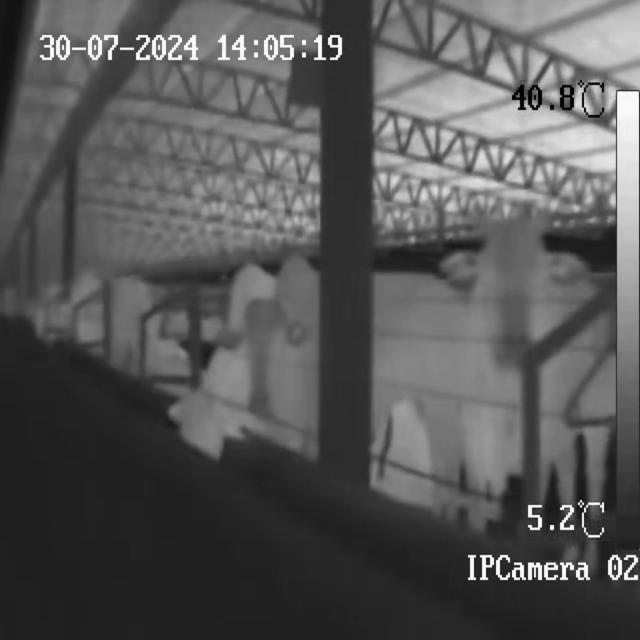eye: (485, 263, 501, 289), (268, 334, 282, 361)
head: (480, 225, 544, 366), (239, 293, 290, 426)
